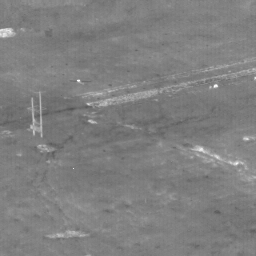aircraft: (78, 80, 80, 82)
